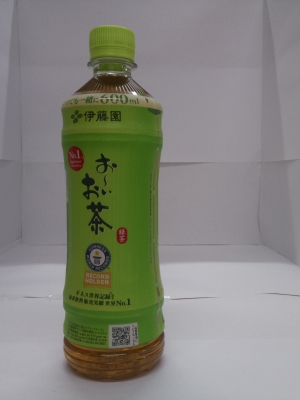hey_tea: (43, 16, 184, 389)
